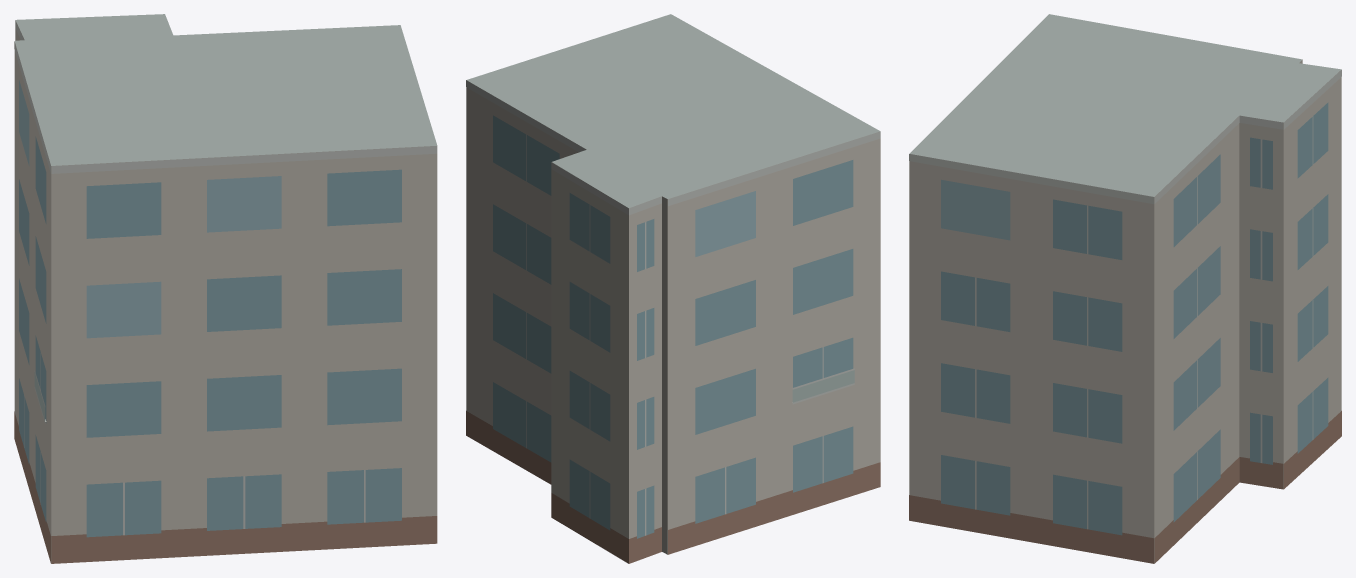
File: survey-upis-32566667.glb
The picture shows the model from 3 angles, left to right: view 1: azimuth 30°, elevation 25°; view 2: azimuth 150°, elevation 25°; view 3: azimuth 270°, elevation 25°; orthographic projection. The views are drawn at different scales.
Visible parts, largest first — view 1: survey-upis-32566667.tmp; view 2: survey-upis-32566667.tmp; view 3: survey-upis-32566667.tmp.
Boxes of the visible parts, box(x1,y1,x2,y2) form: survey-upis-32566667.tmp: box(14, 14, 437, 563); survey-upis-32566667.tmp: box(466, 14, 880, 563); survey-upis-32566667.tmp: box(909, 14, 1341, 563).
Size of the model in its own units: 13.06 by 12.2 by 13.05.
